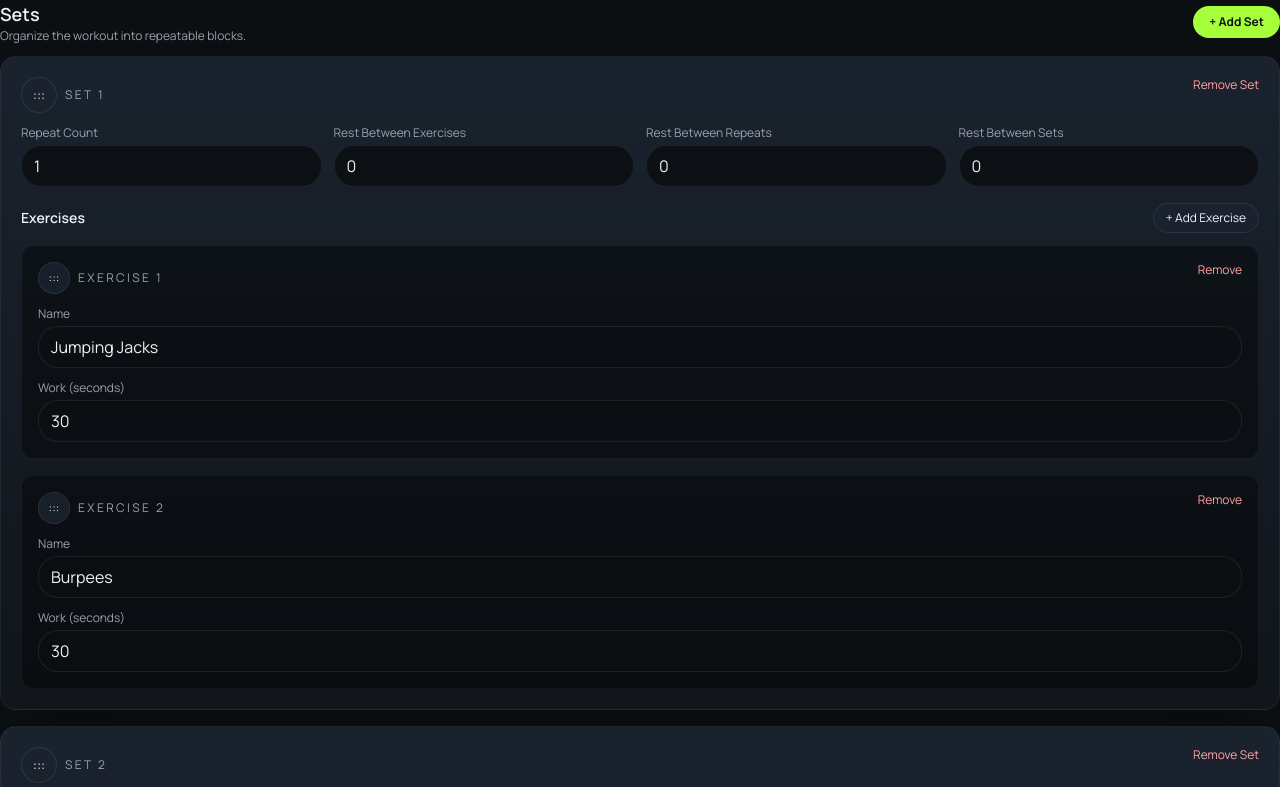
Test case: WorkoutBuilderSets › adds and removes exercises
Click the button with test id "add-exercise-button-0".
click(1206, 218)  # box x1=1153 y1=203 x2=1259 y2=233
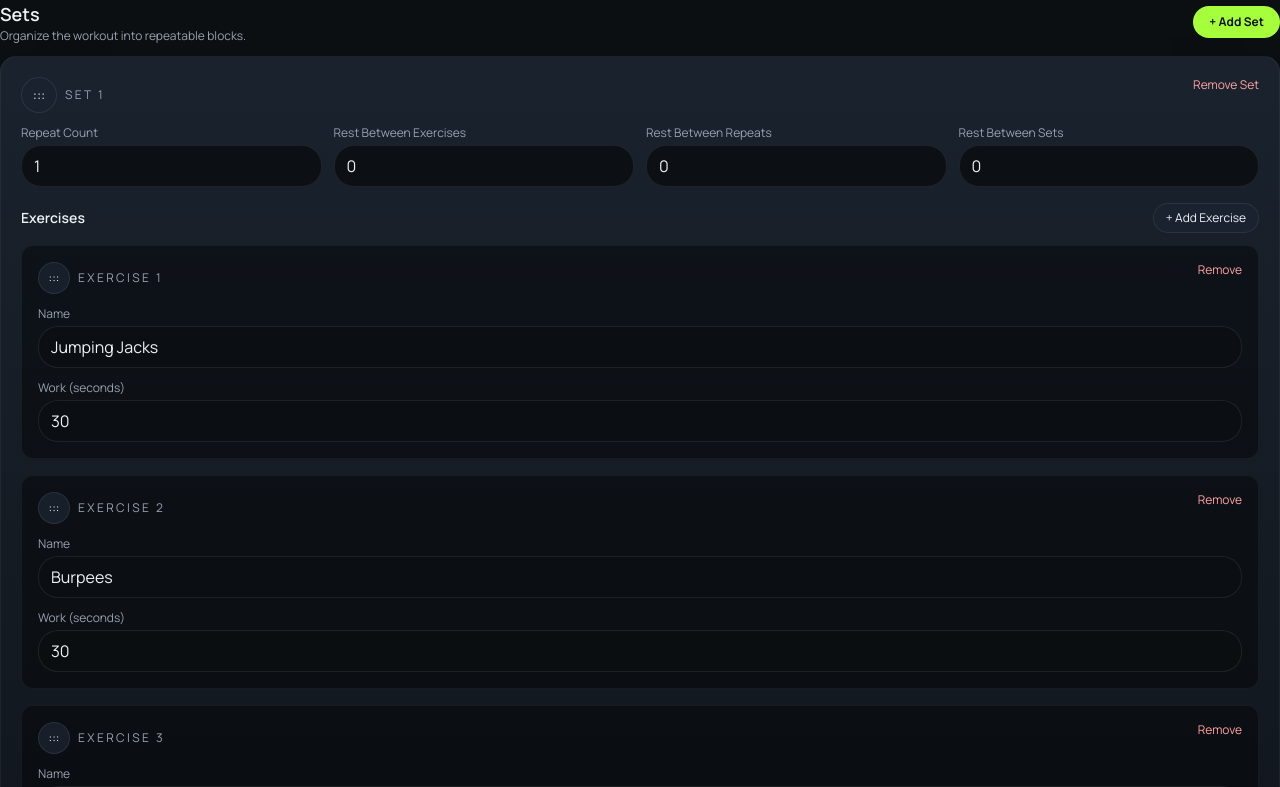
Expected: the text "Exercise 1" is shown 5 times
Click the button with test id "remove-exercise-button-0-0".
click(1220, 270)  # box x1=1198 y1=262 x2=1242 y2=278
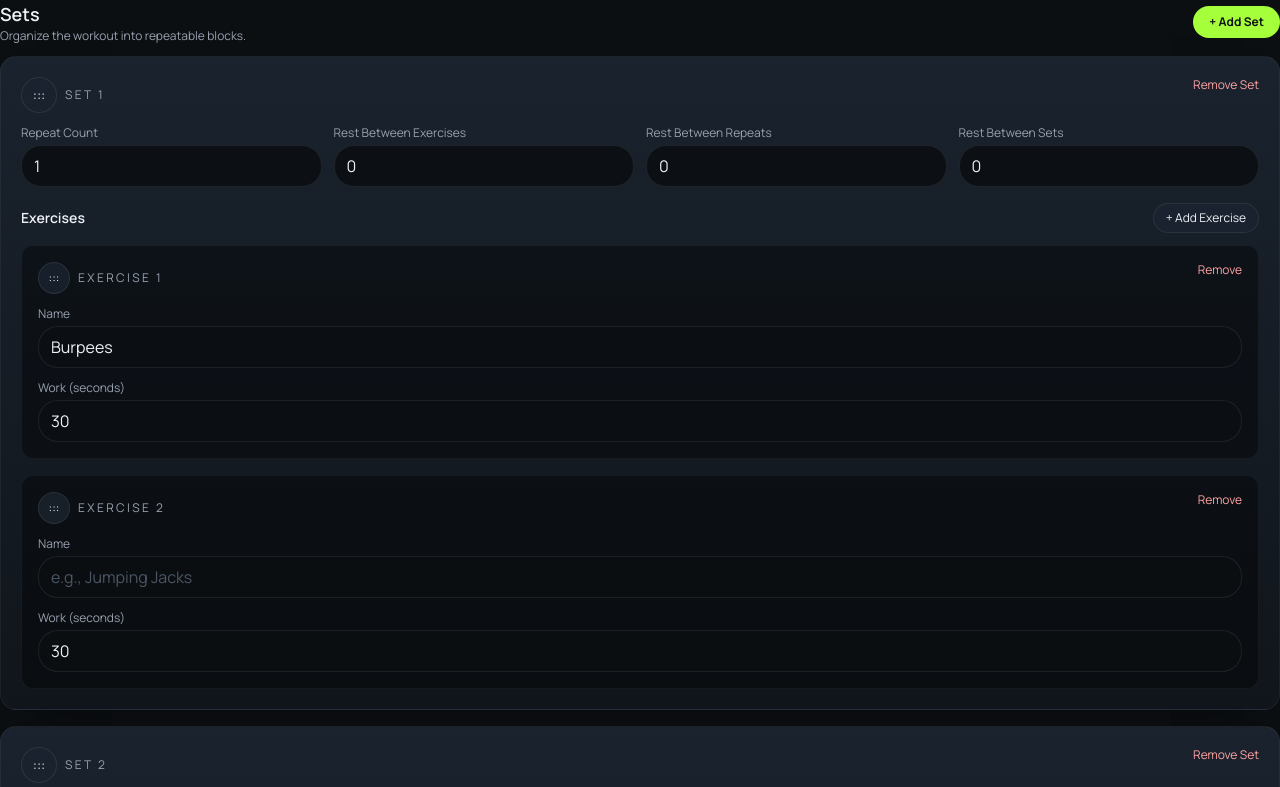
Expected: the text "Exercise 1" is shown 4 times
